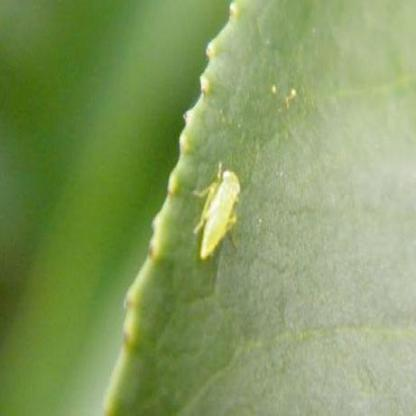Green-Leafhopper: (188, 160, 246, 263)
